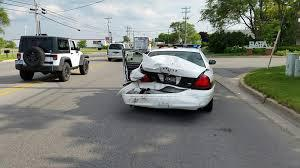boot-dent: (143, 54, 197, 86)
rear-bumper-dent: (126, 85, 201, 107)
